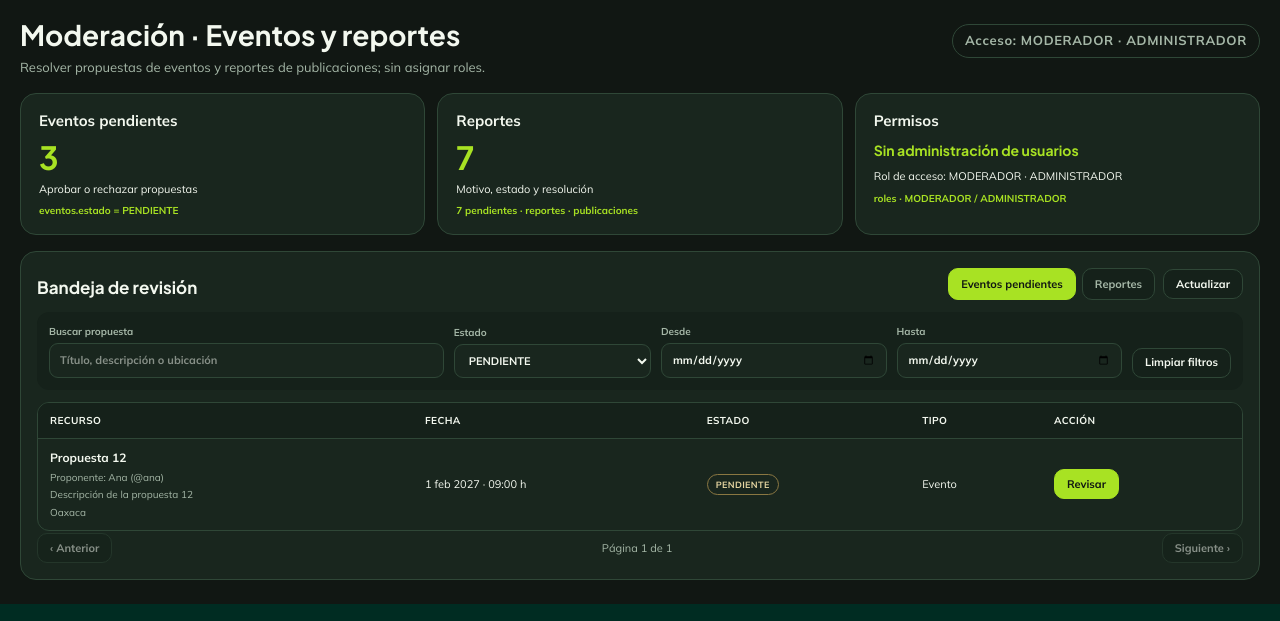
Test: Moderación 085: panel funcional › carga propuestas, reportes y conteos reales del backend
Expected: the heading "Moderación · Eventos y reportes" is shown, [20,18,485,52]
Expected: the text "3" is shown, [39,137,59,177]
Click the tab "Reportes" at point(1118, 284), box [1082,268,1155,300]
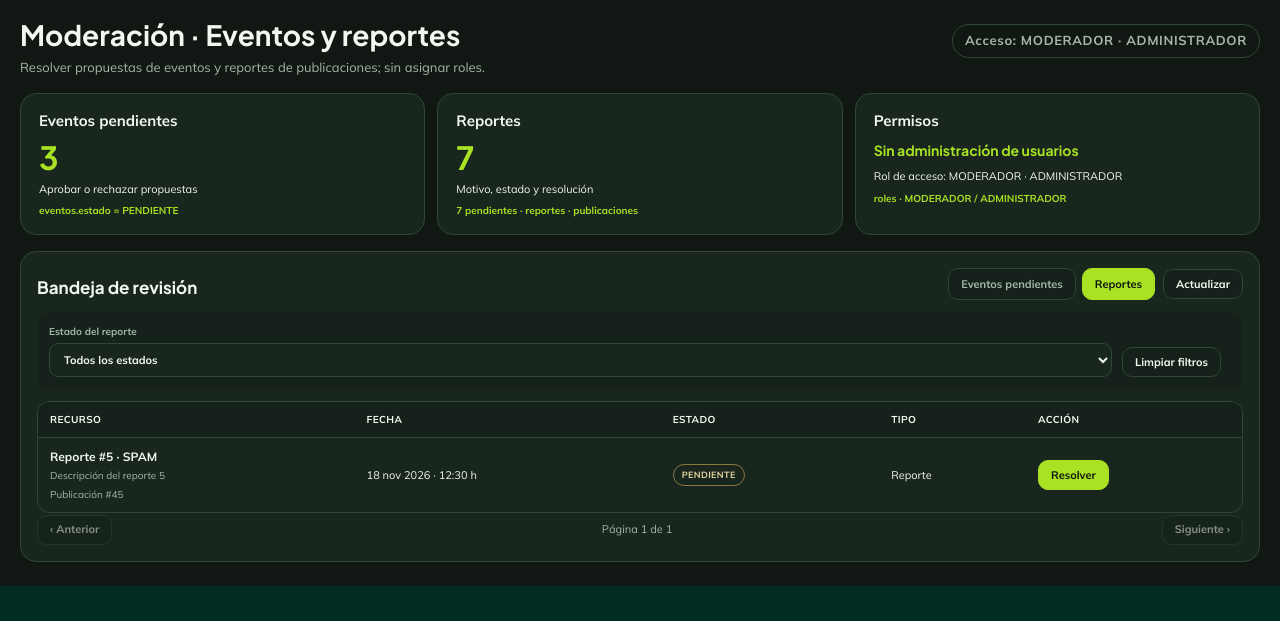
Result: the text "Reporte #5 · SPAM" is shown at [50,449,157,464]
Result: the button "Resolver" is shown at [1038,460,1109,490]
